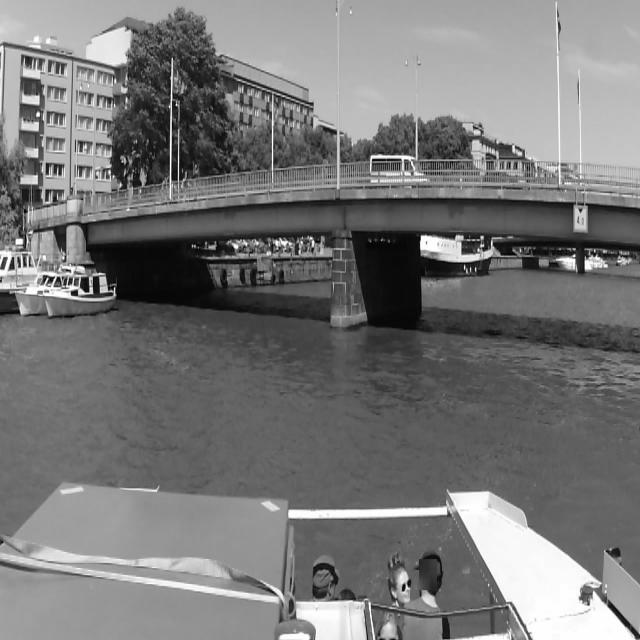ship: (421, 236, 493, 278), (14, 271, 58, 314)
